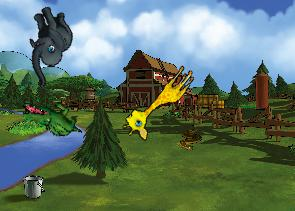crocodile: (21, 99, 82, 138)
elephant: (7, 0, 89, 88)
giraffe: (118, 56, 198, 145)
